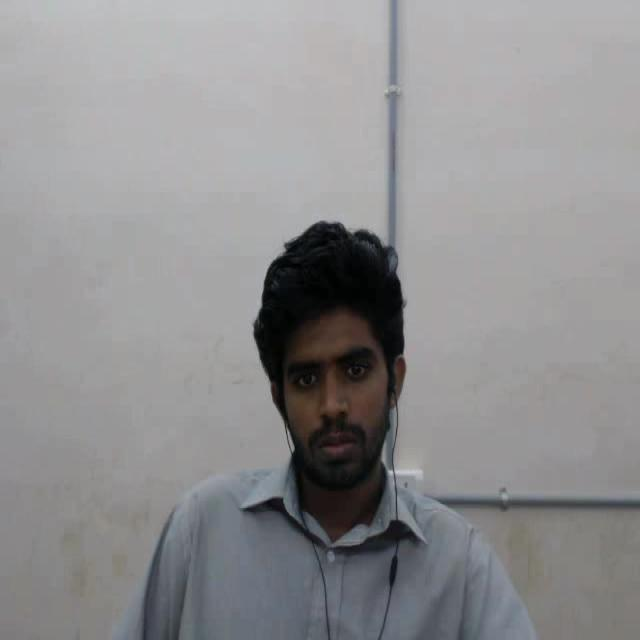Engaged: (226, 182, 434, 551)
